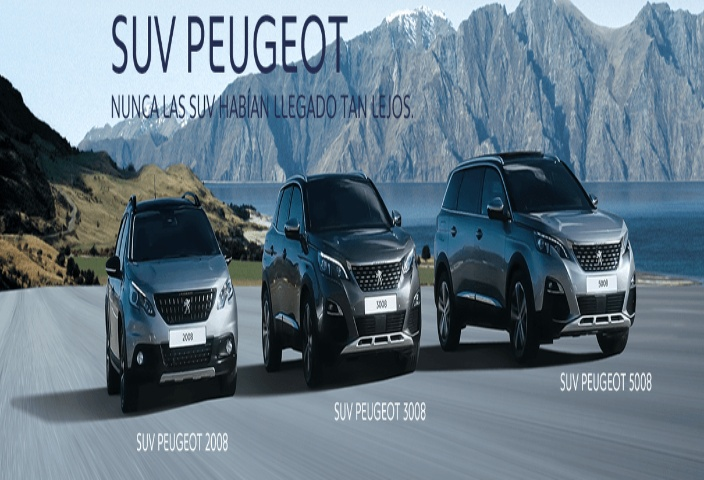camper: (423, 144, 657, 368), (75, 156, 251, 396), (252, 167, 432, 375)
